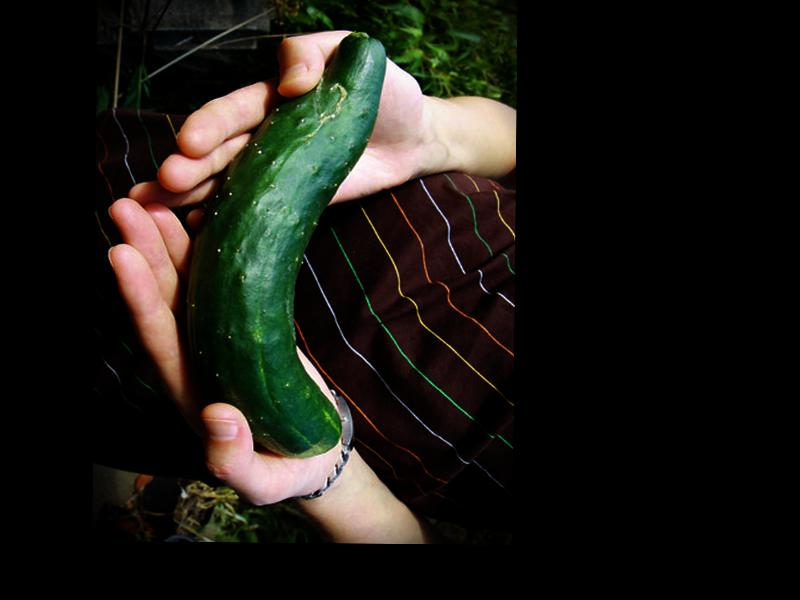Cucumber: (184, 32, 386, 458)
